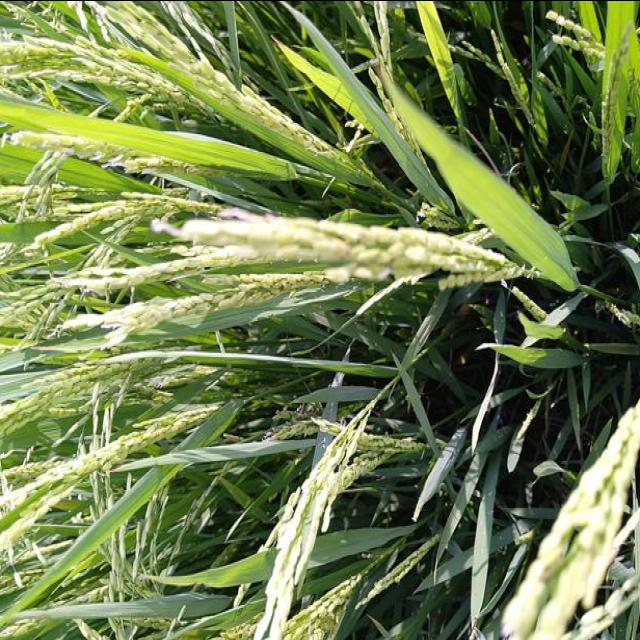Panicle Blight: (178, 205, 528, 302)
